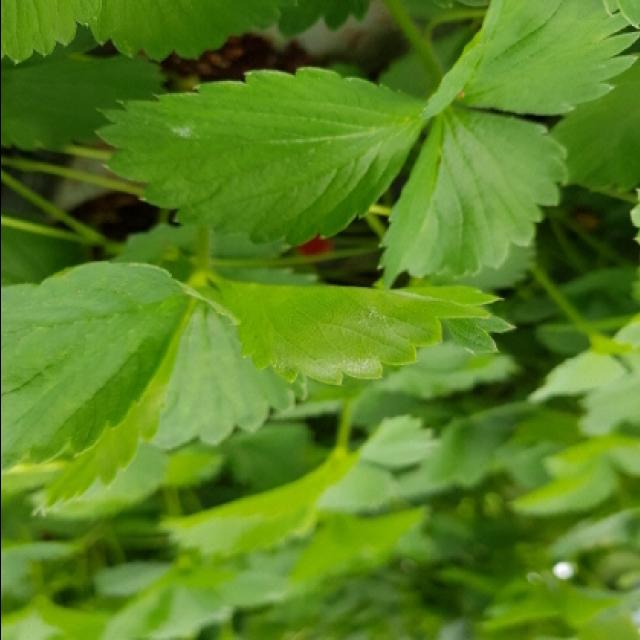Powdery Mildew Leaf: (94, 66, 427, 249), (194, 275, 516, 388)
